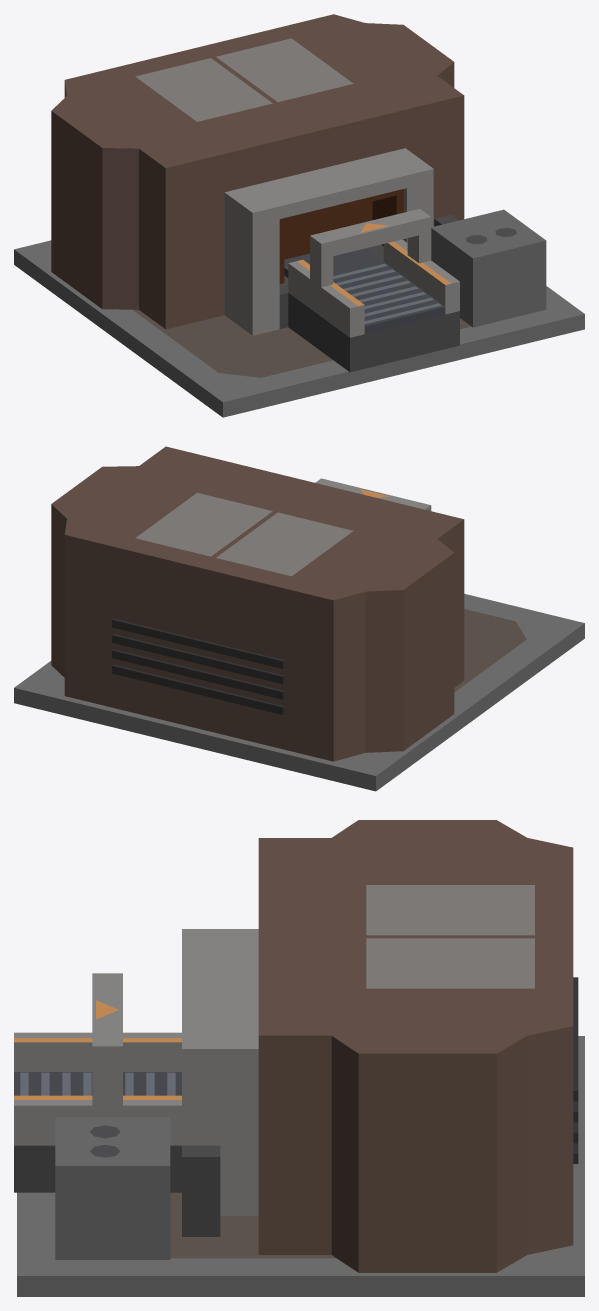
Rendered from vfef_crematorium_unlit.obj.
3 views of the same model, one above another, from view 1: azimuth 30°, elevation 25°; view 2: azimuth 150°, elevation 25°; view 3: azimuth 270°, elevation 25° (orthographic). The views are drawn at different scales.
Parts seen in each view (by area): view 1: vfef_crematorium_unlit_2, vfef_crematorium_unlit_0, vfef_crematorium_unlit_28, vfef_crematorium_unlit_3, vfef_crematorium_unlit_8, vfef_crematorium_unlit_1, vfef_crematorium_unlit_17, vfef_crematorium_unlit_10, vfef_crematorium_unlit_18, vfef_crematorium_unlit_26, vfef_crematorium_unlit_22, vfef_crematorium_unlit_14 (+9 smaller); view 2: vfef_crematorium_unlit_2, vfef_crematorium_unlit_0, vfef_crematorium_unlit_3, vfef_crematorium_unlit_1, vfef_crematorium_unlit_4, vfef_crematorium_unlit_5, vfef_crematorium_unlit_6, vfef_crematorium_unlit_7, vfef_crematorium_unlit_26; view 3: vfef_crematorium_unlit_2, vfef_crematorium_unlit_0, vfef_crematorium_unlit_3, vfef_crematorium_unlit_28, vfef_crematorium_unlit_9, vfef_crematorium_unlit_10, vfef_crematorium_unlit_22, vfef_crematorium_unlit_20, vfef_crematorium_unlit_1, vfef_crematorium_unlit_30, vfef_crematorium_unlit_26, vfef_crematorium_unlit_17 (+8 smaller).
Boxes of the visible parts, <box> form: vfef_crematorium_unlit_2: <box>51,14,464,329</box>; vfef_crematorium_unlit_0: <box>14,240,584,417</box>; vfef_crematorium_unlit_28: <box>431,209,546,327</box>; vfef_crematorium_unlit_3: <box>135,38,353,121</box>; vfef_crematorium_unlit_8: <box>224,185,279,335</box>; vfef_crematorium_unlit_1: <box>132,309,471,377</box>; vfef_crematorium_unlit_17: <box>288,293,459,372</box>; vfef_crematorium_unlit_10: <box>252,154,406,218</box>; vfef_crematorium_unlit_18: <box>333,261,445,333</box>; vfef_crematorium_unlit_26: <box>310,209,431,258</box>; vfef_crematorium_unlit_22: <box>288,261,364,337</box>; vfef_crematorium_unlit_14: <box>284,201,372,259</box>; vfef_crematorium_unlit_2: <box>51,446,464,761</box>; vfef_crematorium_unlit_0: <box>14,594,584,791</box>; vfef_crematorium_unlit_3: <box>135,492,352,576</box>; vfef_crematorium_unlit_1: <box>454,609,526,692</box>; vfef_crematorium_unlit_4: <box>112,664,284,714</box>; vfef_crematorium_unlit_5: <box>112,649,284,699</box>; vfef_crematorium_unlit_6: <box>112,634,284,684</box>; vfef_crematorium_unlit_7: <box>112,618,284,668</box>; vfef_crematorium_unlit_26: <box>315,478,431,510</box>; vfef_crematorium_unlit_2: <box>258,820,573,1272</box>; vfef_crematorium_unlit_0: <box>17,1036,584,1296</box>; vfef_crematorium_unlit_3: <box>366,885,534,988</box>; vfef_crematorium_unlit_28: <box>55,1117,170,1259</box>; vfef_crematorium_unlit_9: <box>182,1031,258,1215</box>; vfef_crematorium_unlit_10: <box>182,947,258,1031</box>; vfef_crematorium_unlit_22: <box>14,1032,181,1071</box>; vfef_crematorium_unlit_20: <box>14,1100,181,1145</box>; vfef_crematorium_unlit_1: <box>170,1192,335,1258</box>; vfef_crematorium_unlit_30: <box>182,1145,220,1236</box>; vfef_crematorium_unlit_26: <box>92,973,122,1067</box>; vfef_crematorium_unlit_17: <box>14,1145,181,1192</box>.
Bounding box in the file's own units: 2.96 × 1.38 × 2.98.
